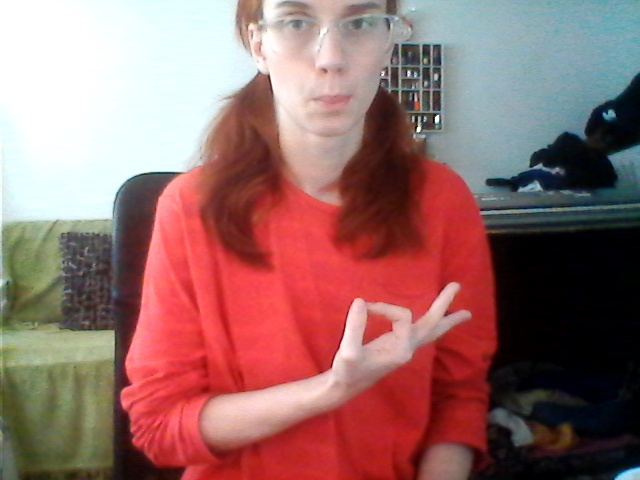co: (312, 277, 479, 393)
